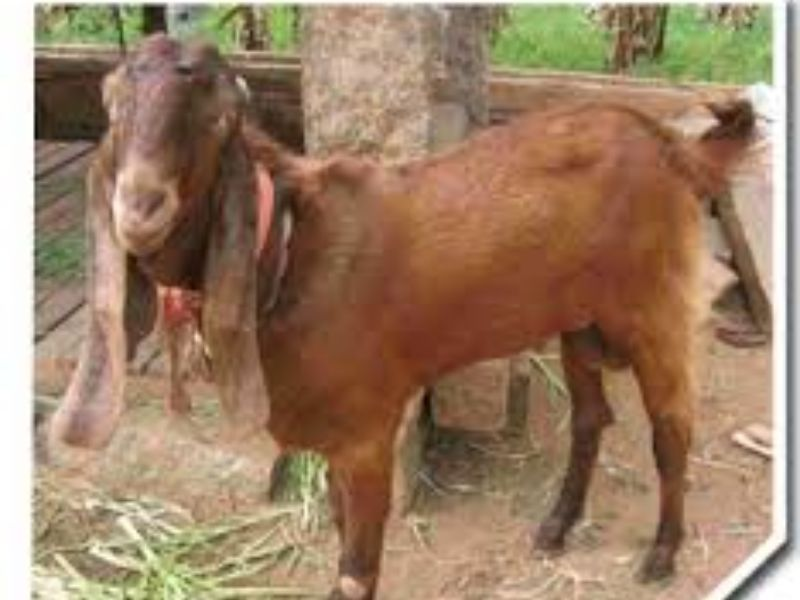goat: (69, 21, 763, 600)
